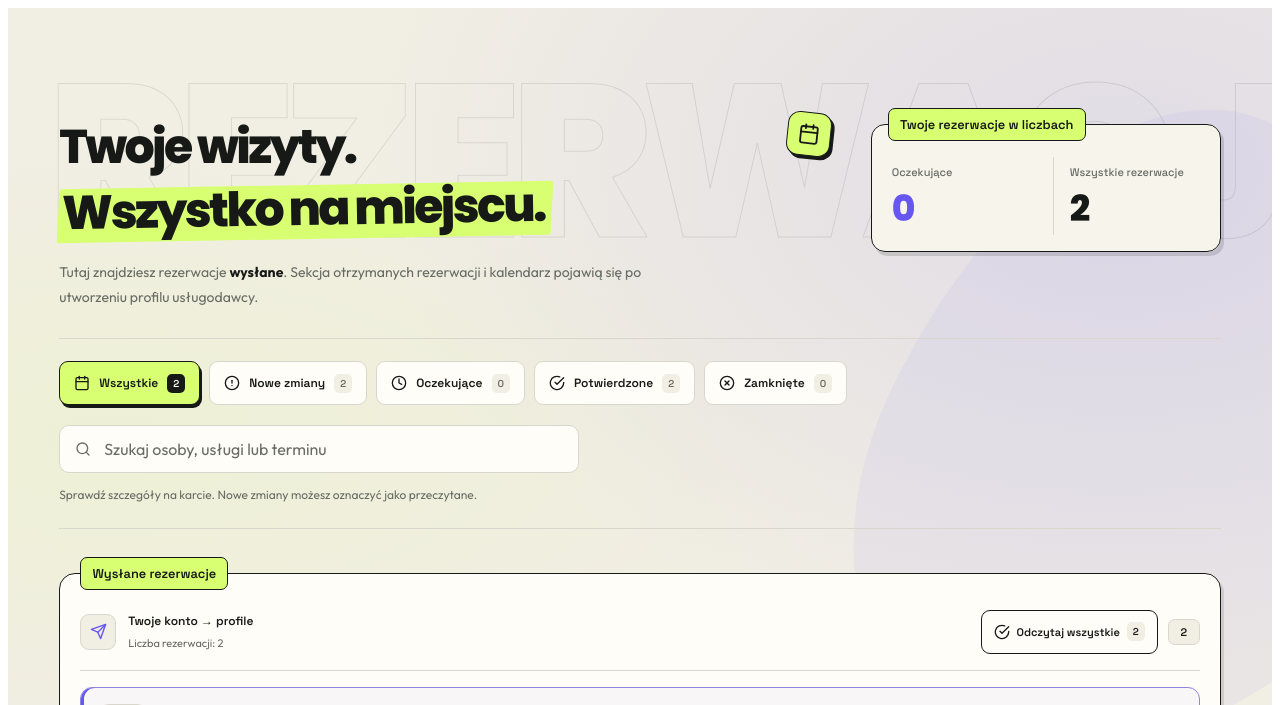
Test case: bulk read keeps a failed or newer update unread and reports partial completion
Step 1. Click the button "Odczytaj wszystkie 2" → (1069,632), box top-left (980, 610), bottom-right (1158, 654)
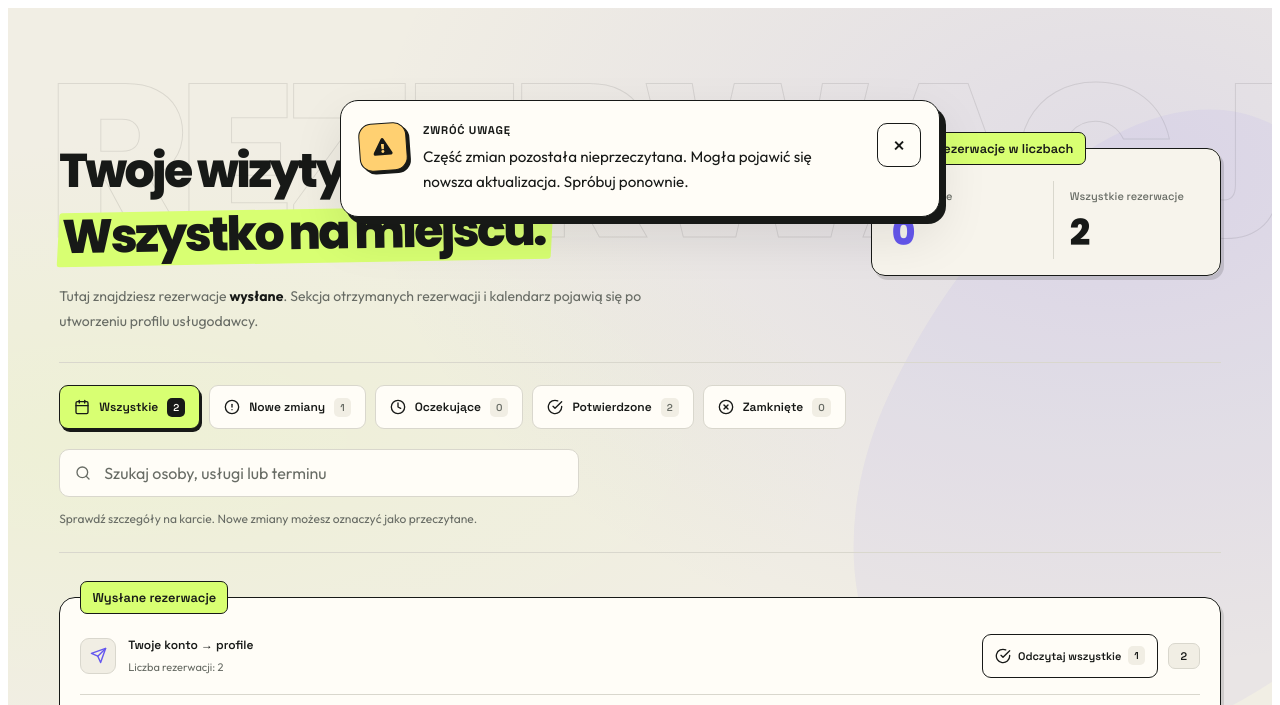
Expected: the text "Część zmian pozostała nieprzeczytana" is shown, top-left (423, 147), bottom-right (812, 191)
Expected: the button "Odczytaj wszystkie 1" is shown, top-left (982, 634), bottom-right (1158, 678)
